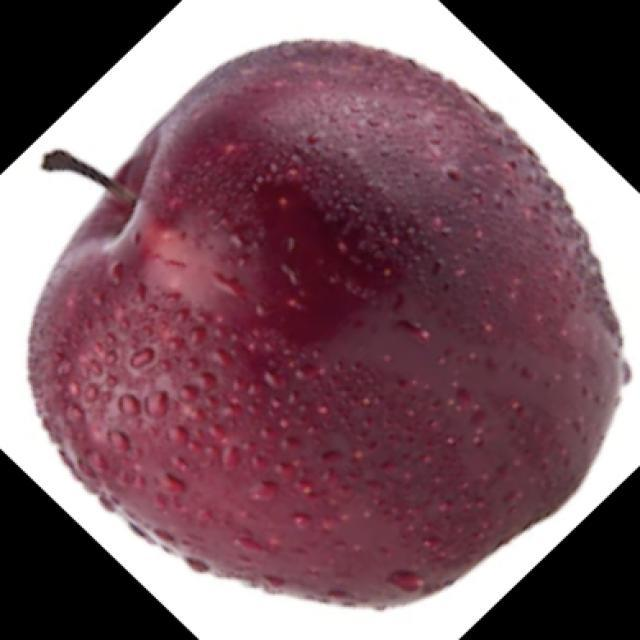Fresh Apple: (56, 53, 640, 601)
